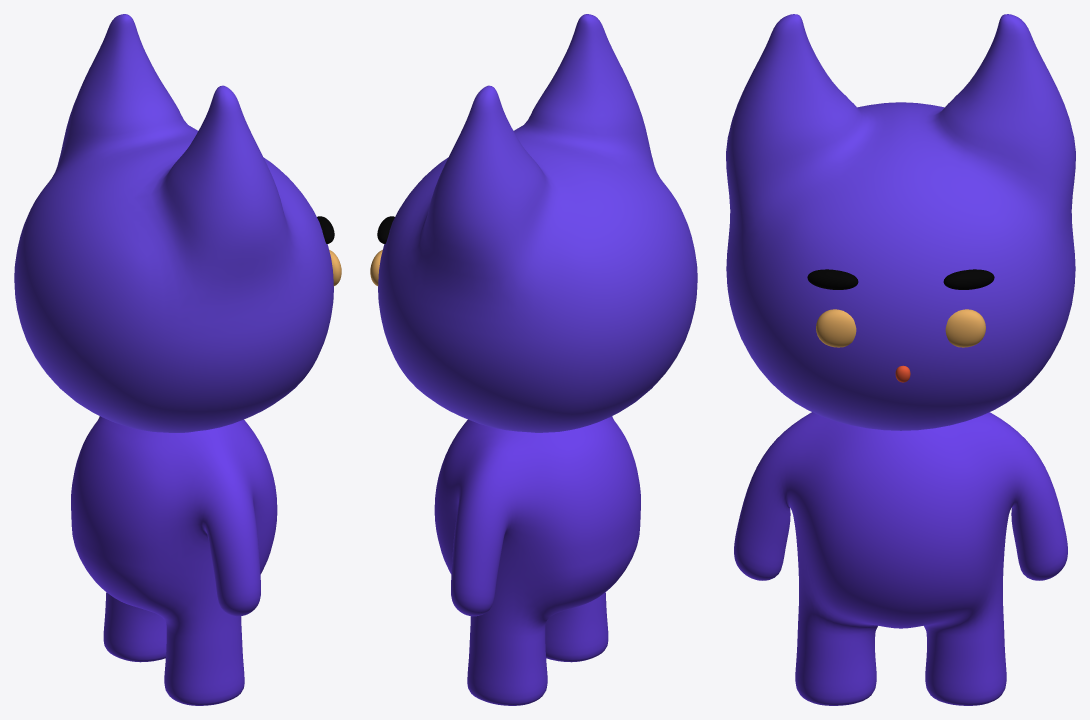
Rendered from char2.fbx.
3 renders of one model, left to right at view 1: azimuth 30°, elevation 25°; view 2: azimuth 150°, elevation 25°; view 3: azimuth 270°, elevation 25°, orthographic. The views are drawn at different scales.
Parts seen in each view (by area): view 1: Cube.010; view 2: Cube.010; view 3: Cube.010.
Part boxes in pixels (bbox=[...]): Cube.010: bbox=[14, 14, 341, 705]; Cube.010: bbox=[370, 14, 697, 705]; Cube.010: bbox=[726, 14, 1075, 705].
Bounding box in the file's own units: 167 × 363 × 170.
